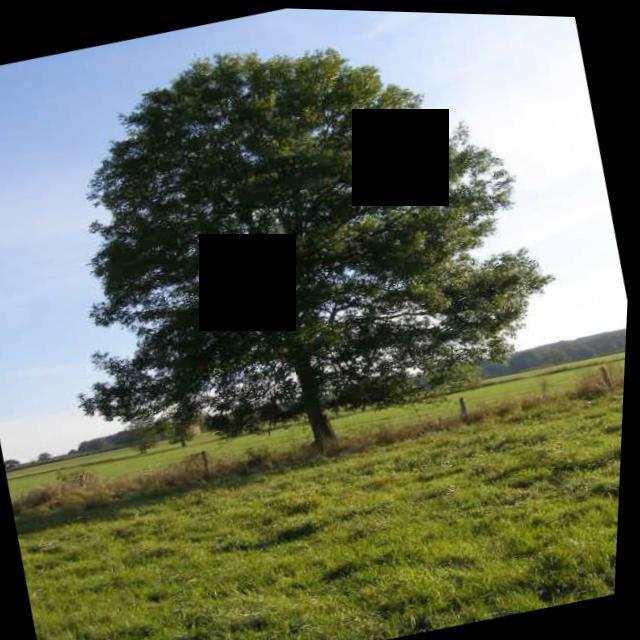Tree: (8, 2, 592, 509)
